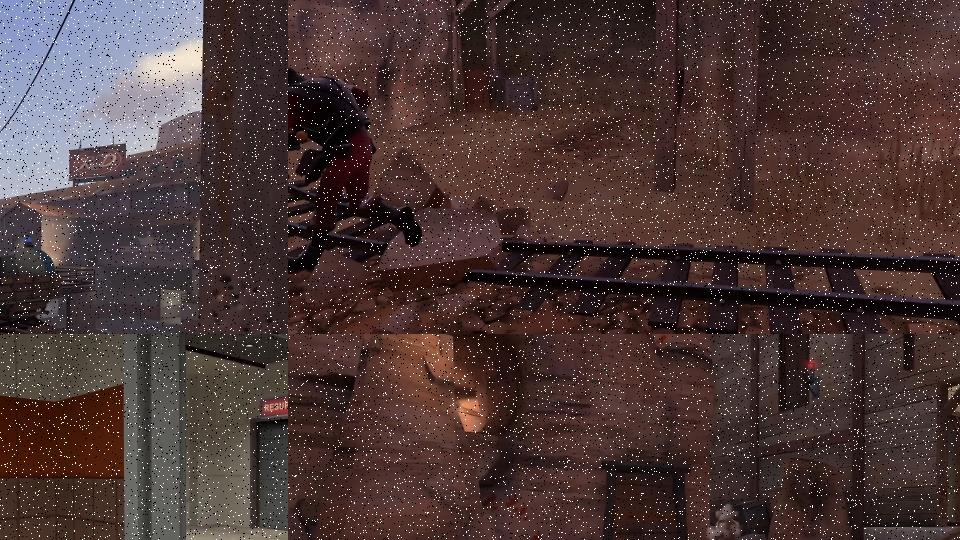Enemy: (288, 66, 422, 274), (706, 505, 742, 540)
